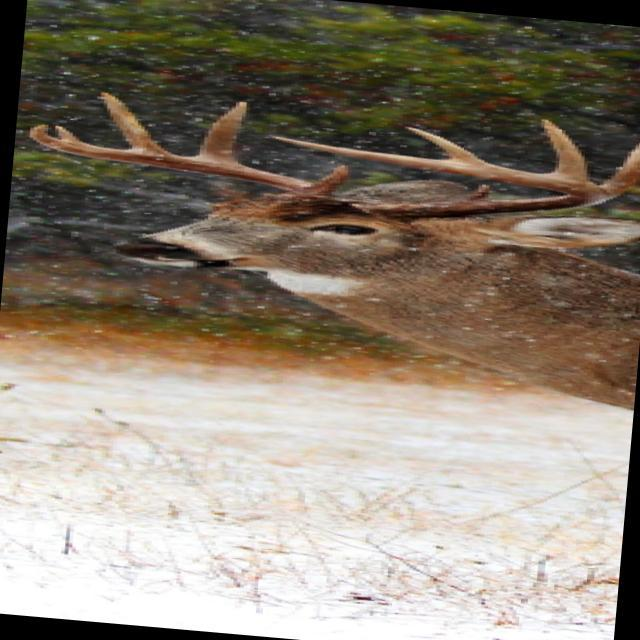L-F: (266, 134, 613, 226)
L-G1: (464, 183, 494, 200)
L-G2: (598, 141, 640, 199)
L-G3: (538, 118, 598, 185)
L-G4: (401, 126, 512, 168)
R-G1: (314, 163, 351, 192)
R-G2: (187, 100, 249, 167)
R-G3: (96, 91, 175, 154)
R-G4: (54, 124, 101, 147)
